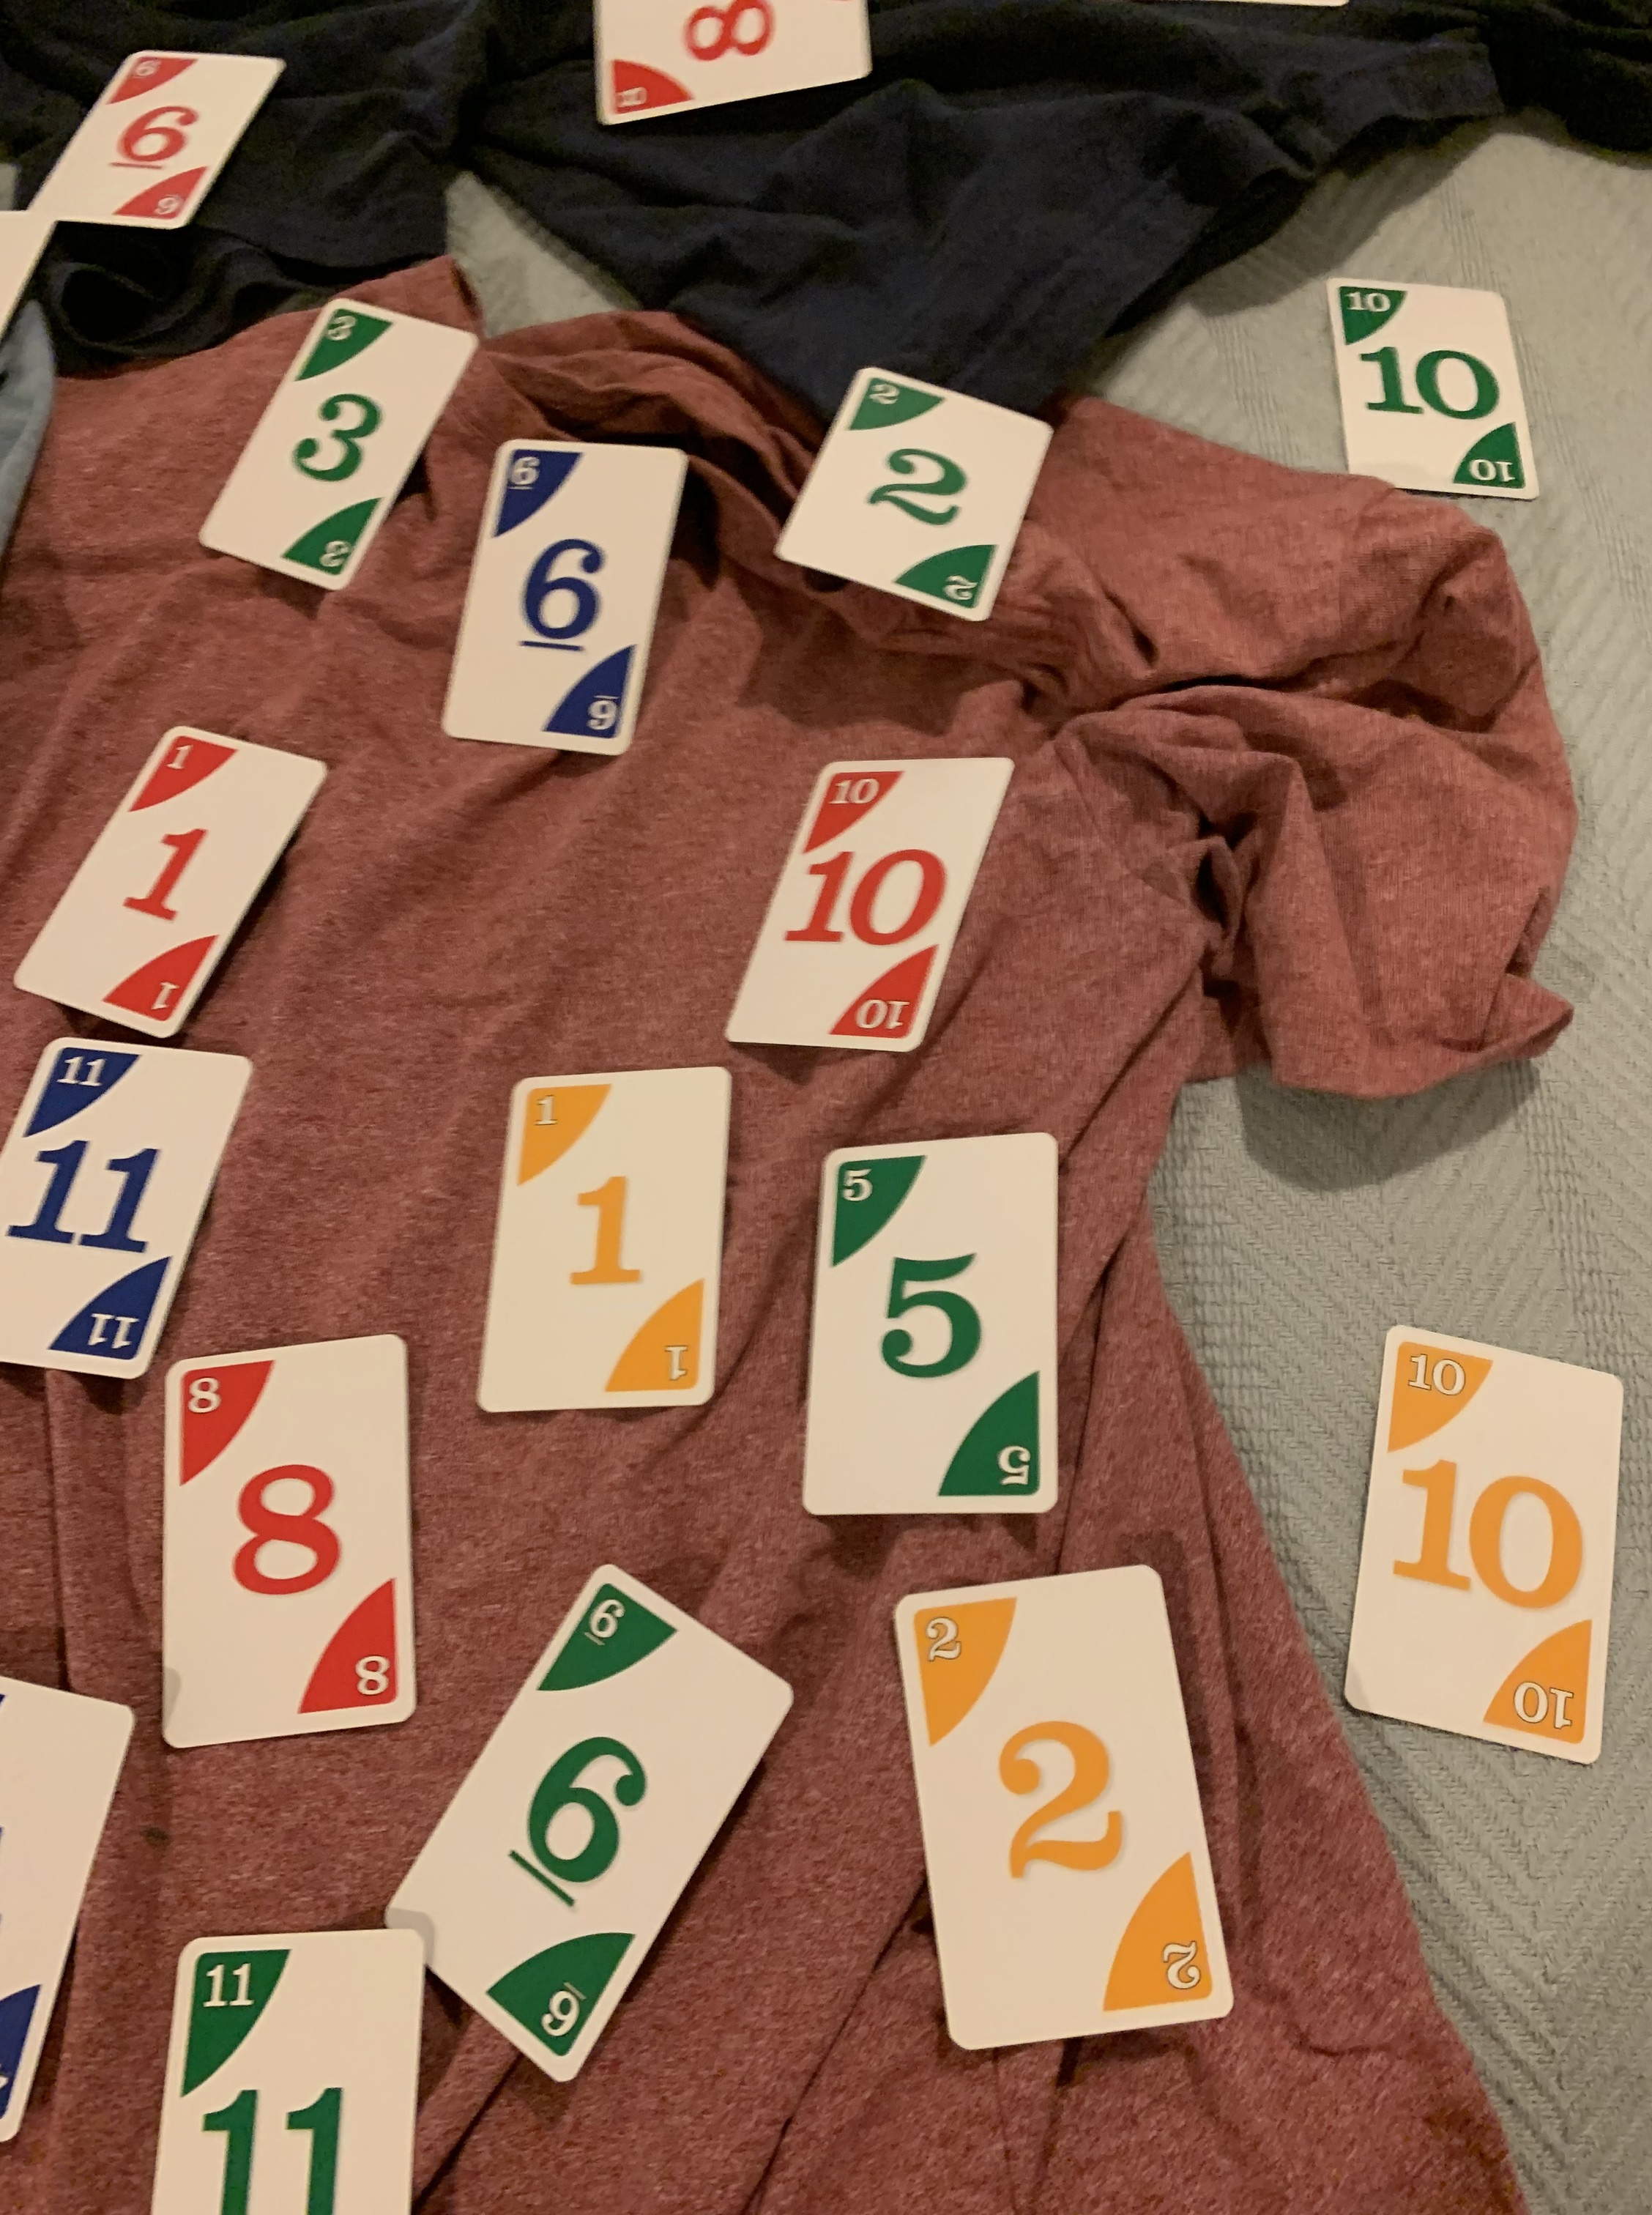eleven: (0, 1024, 259, 1380), (147, 1922, 425, 2215)
five: (795, 1132, 1064, 1515)
one: (0, 722, 342, 1042), (451, 1068, 737, 1420)
six: (378, 1573, 762, 2081), (422, 432, 685, 755), (29, 49, 286, 250)
ten: (1314, 1314, 1626, 1786), (720, 738, 1017, 1071), (1317, 259, 1543, 503)
two: (888, 1555, 1232, 2059), (758, 368, 1053, 630)
